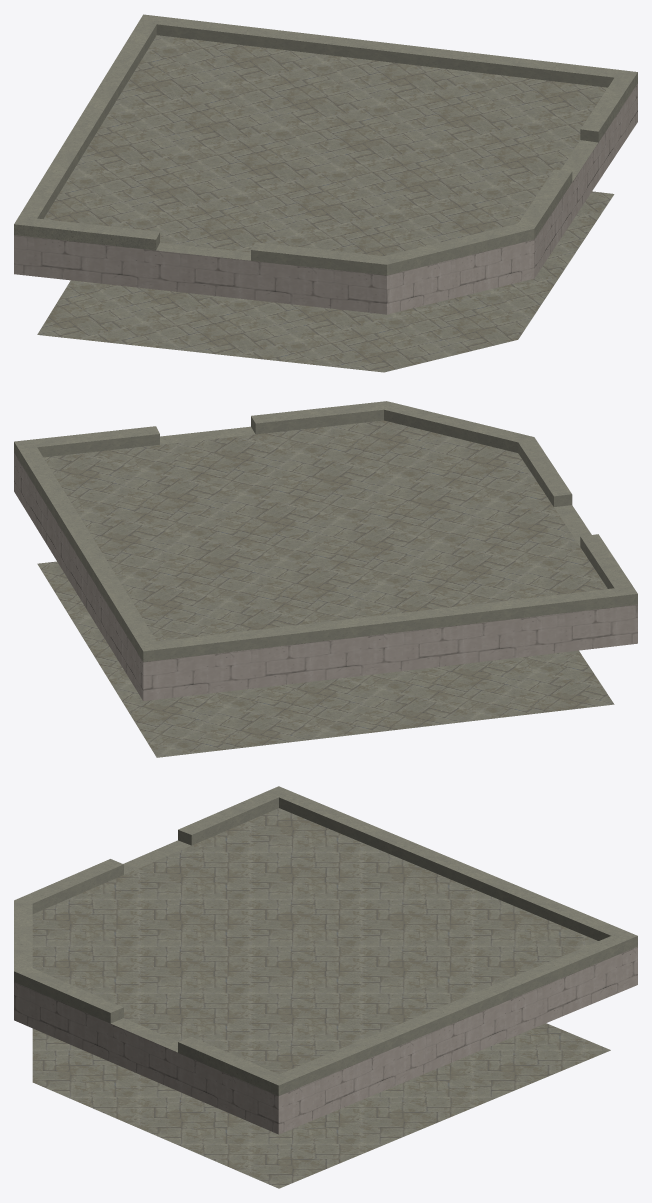
Rendered from AD_Ground_K_01.fbx.
3 renders of one model, top to bottom at view 1: azimuth 30°, elevation 25°; view 2: azimuth 150°, elevation 25°; view 3: azimuth 270°, elevation 25°, orthographic.
Visible parts, largest first — view 1: AD_Ground_K_01; view 2: AD_Ground_K_01; view 3: AD_Ground_K_01.
Boxes of the visible parts, bbox=[...] form: AD_Ground_K_01: bbox=[14, 14, 637, 372]; AD_Ground_K_01: bbox=[14, 401, 637, 757]; AD_Ground_K_01: bbox=[14, 786, 637, 1188].
Bounding box in the file's own units: 6371 × 1135 × 5612.
3 materials, 3 textured.
